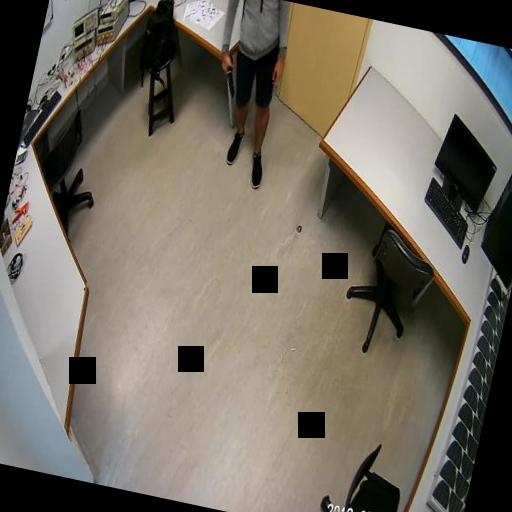Handgun: (218, 52, 240, 96)
